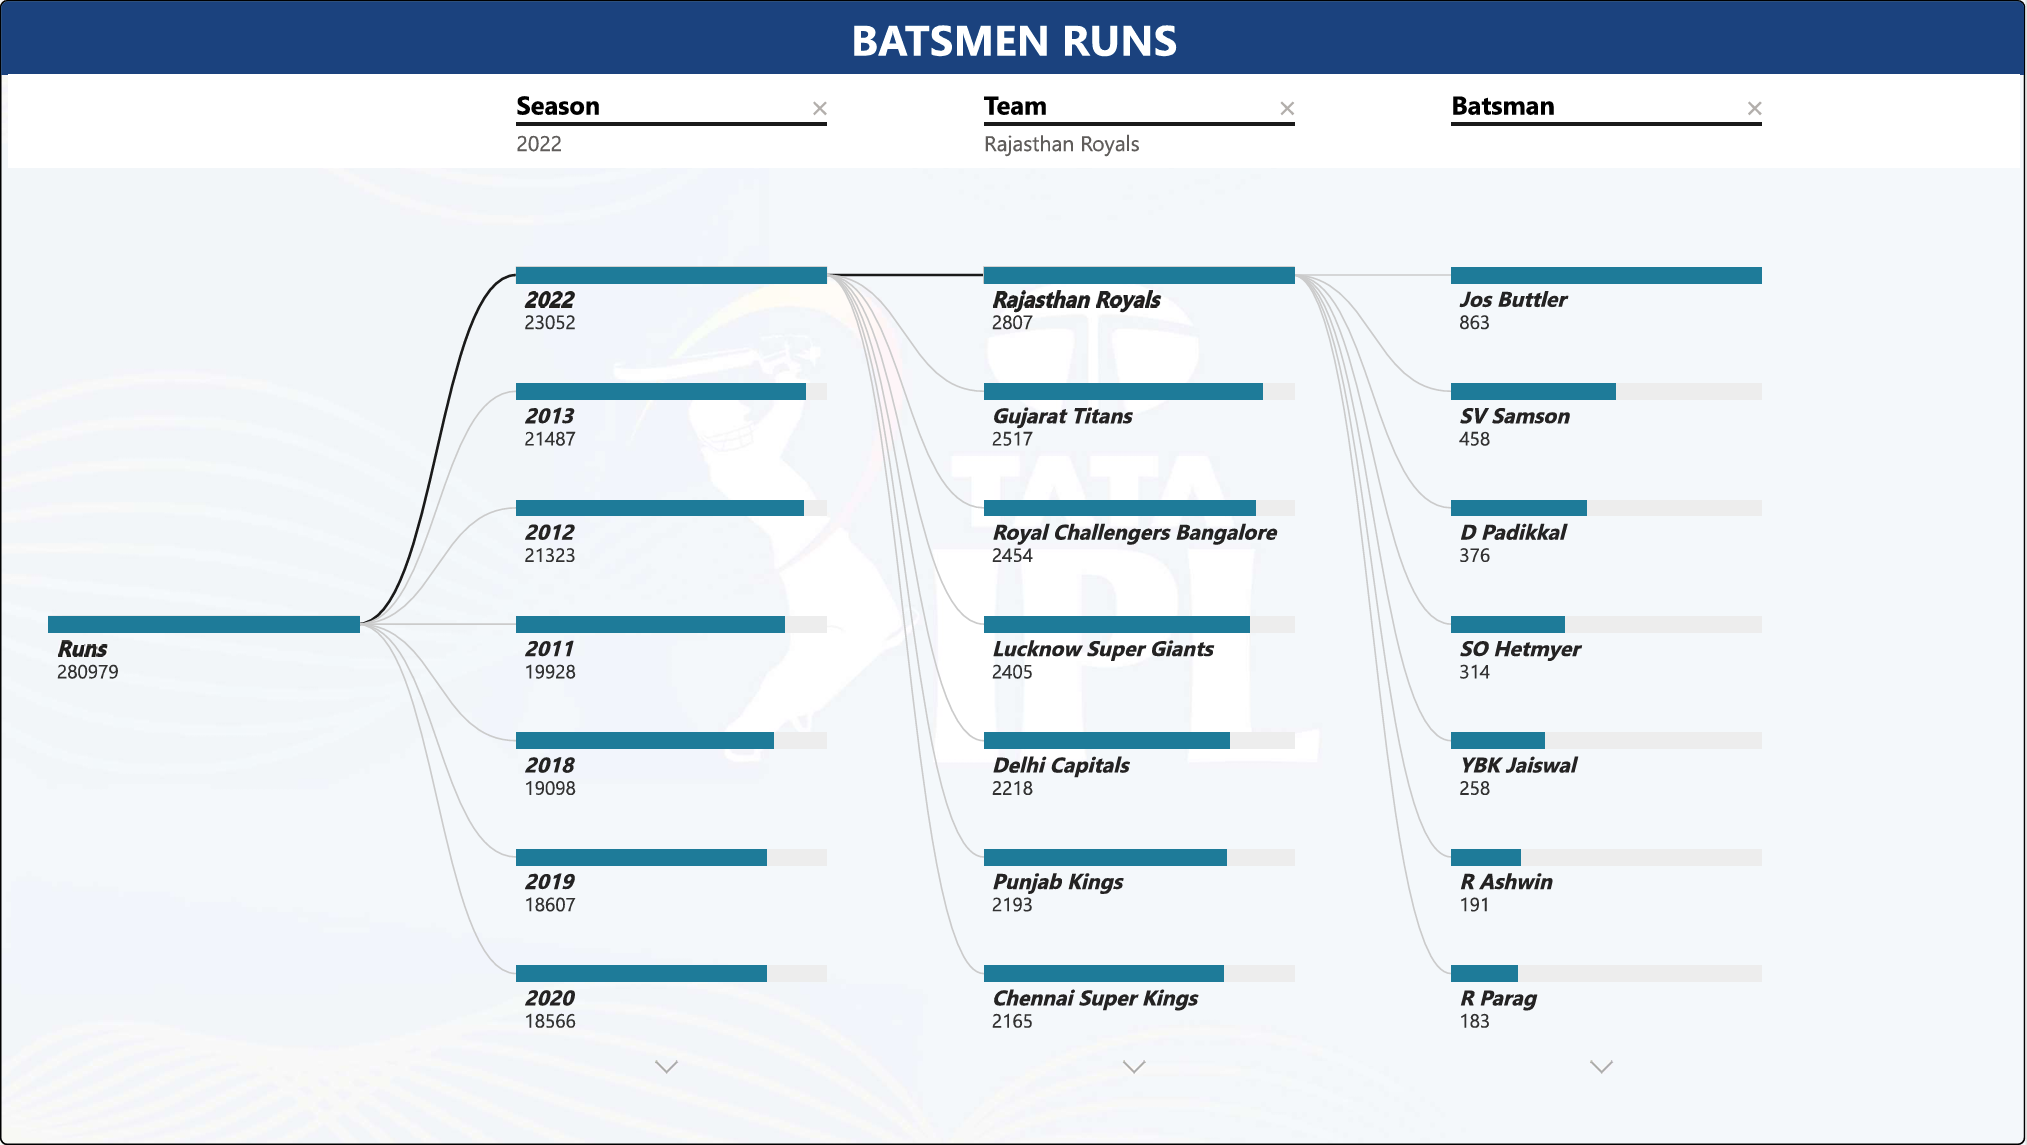

The page's visual inventory and layout, read from the dashboard file:
{"tool":"powerbi","page":{"name":"RUNS","canvas":[1280,720],"ordinal":1},"visuals":[{"type":"decompositionTreeVisual","title":"BATSMEN RUNS","fields":{"ExplainBy":["ipl_match_results.Year","ipl_ball_by_ball.batting_team","ipl_ball_by_ball.batter"],"Analyze":["Measure table.Total runs"]},"box":[6.2,0,1273.6,720],"z":0}]}

Visuals, with their boxes in screenshot pixels (x1, y1, x2, y2), scaled from the page's 1280x720 canvas onto the 2027x1145 screenshot:
"BATSMEN RUNS" decompositionTreeVisual: select_region(10, 0, 2026, 1144)
